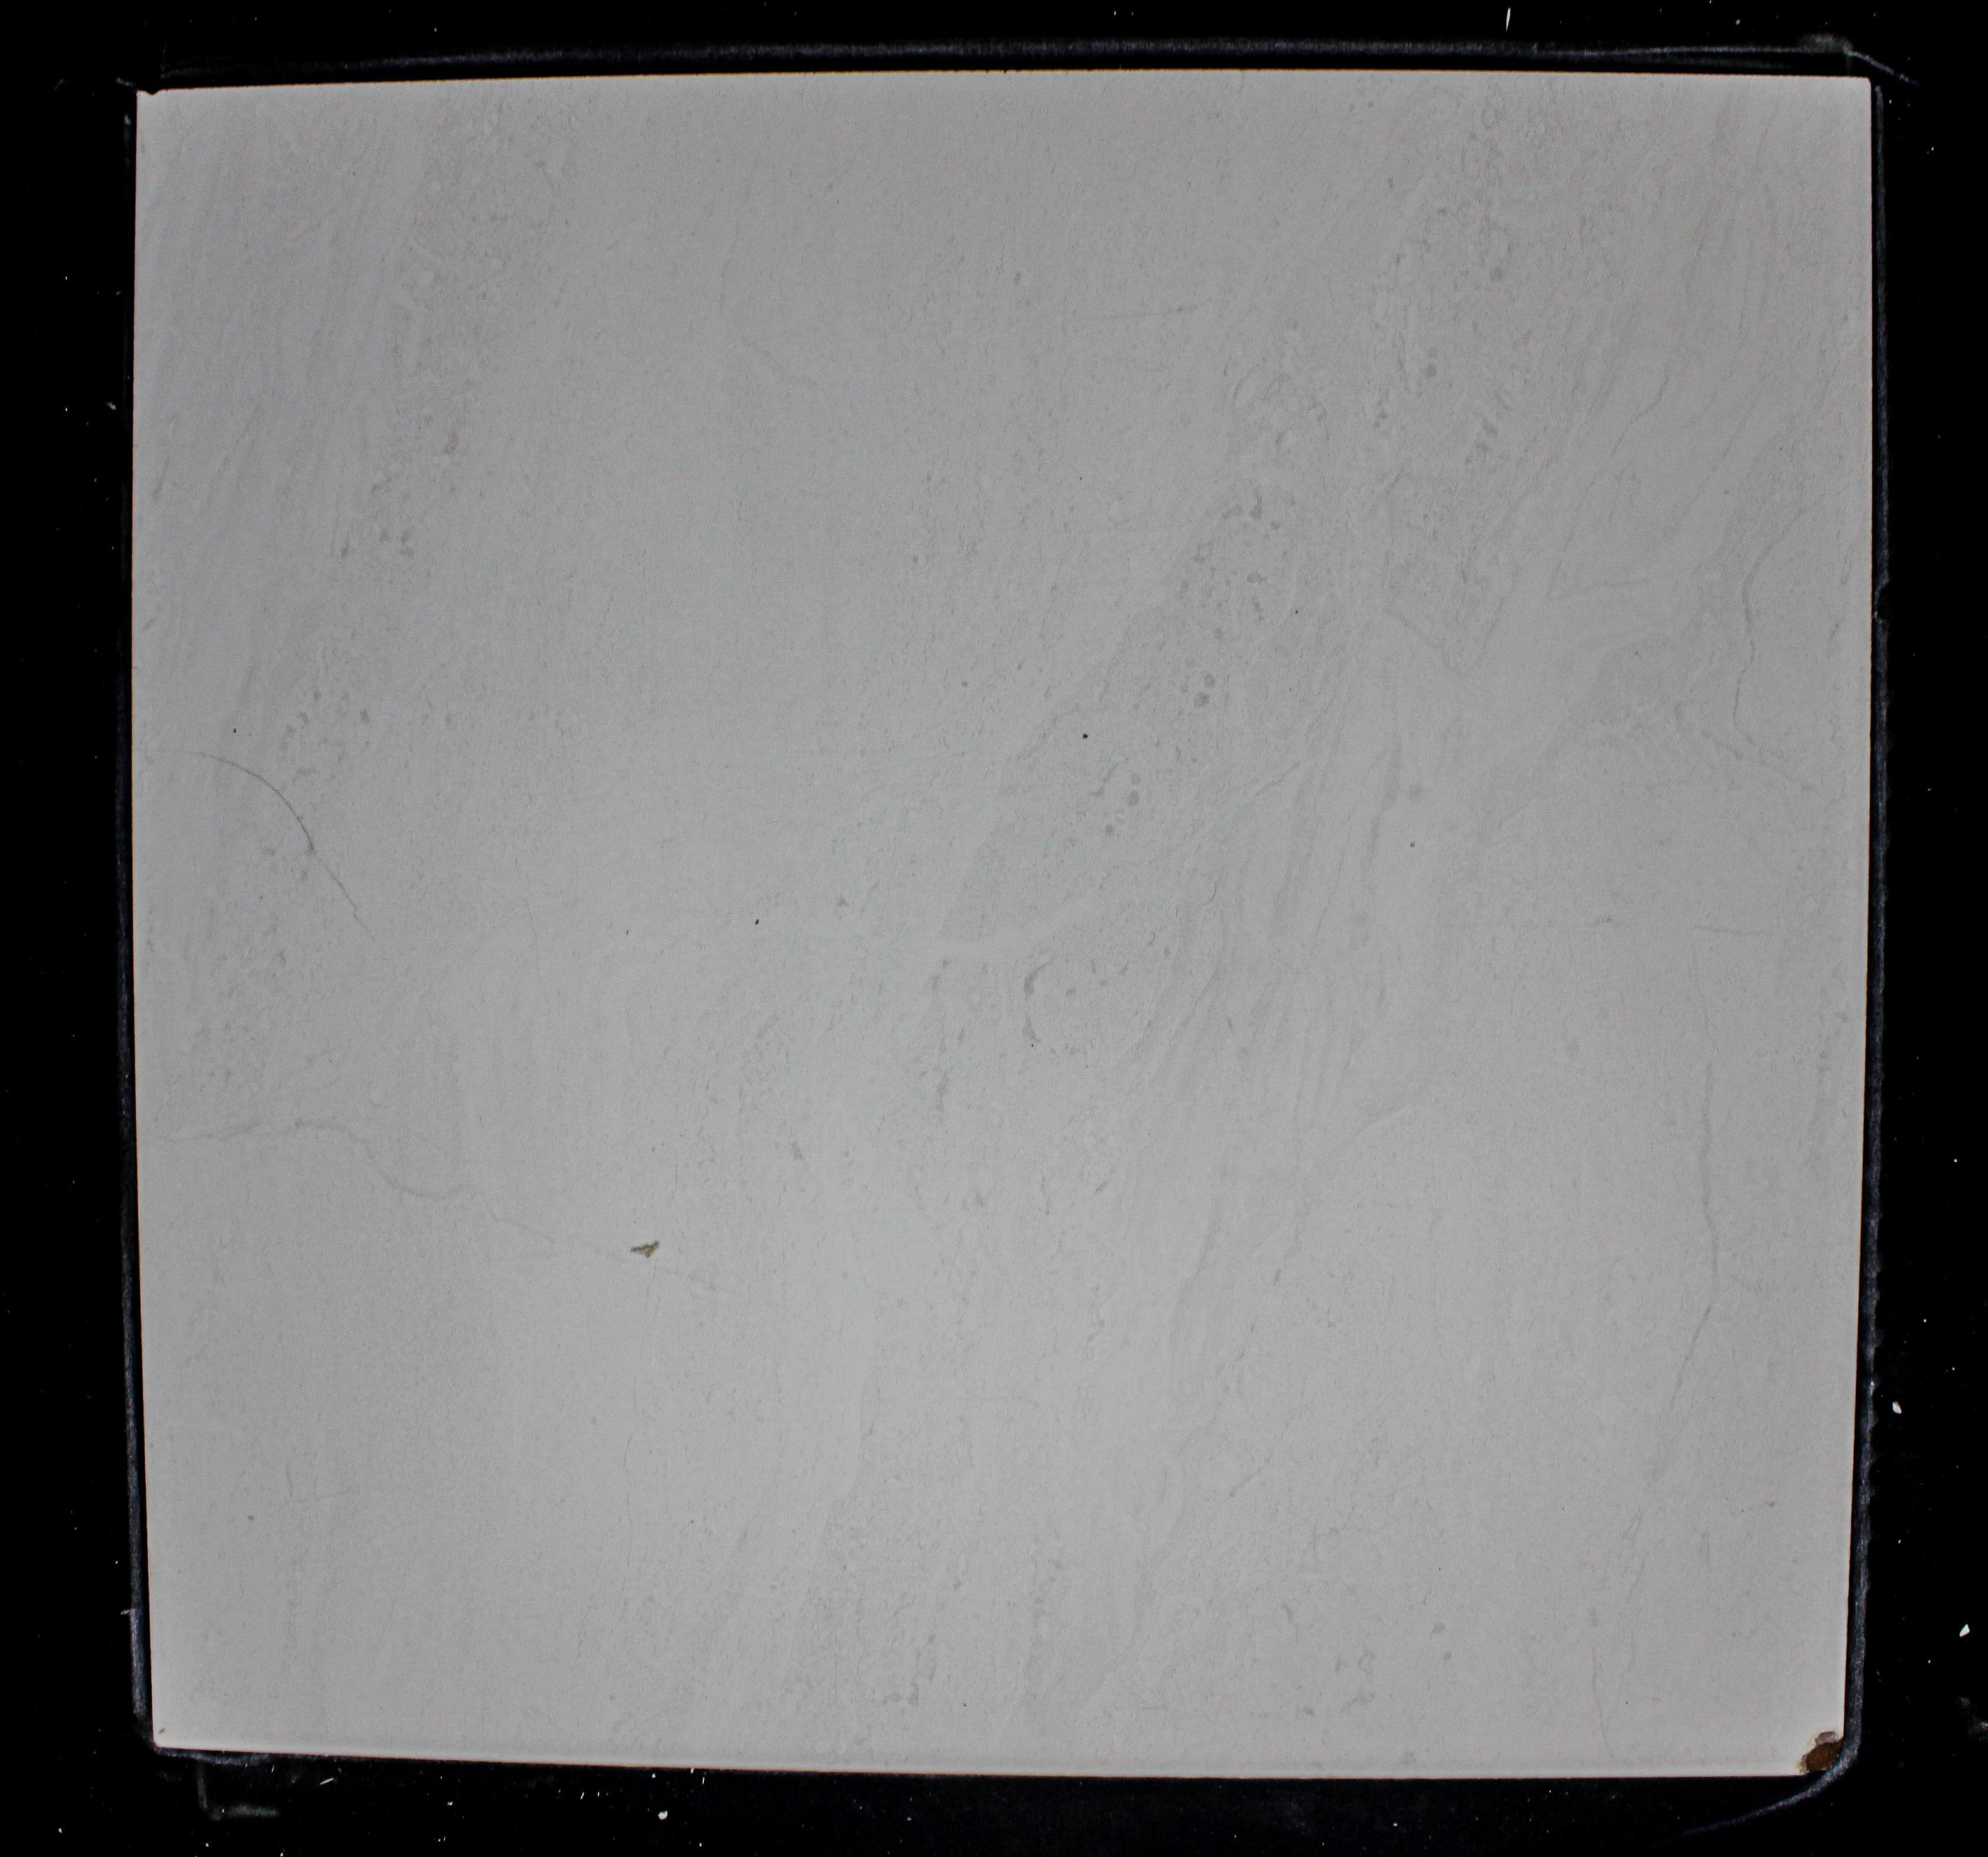edge-chipping: (1799, 1733, 1847, 1780)
hole: (632, 1236, 663, 1262), (1080, 730, 1093, 742)
line: (192, 750, 316, 846)
